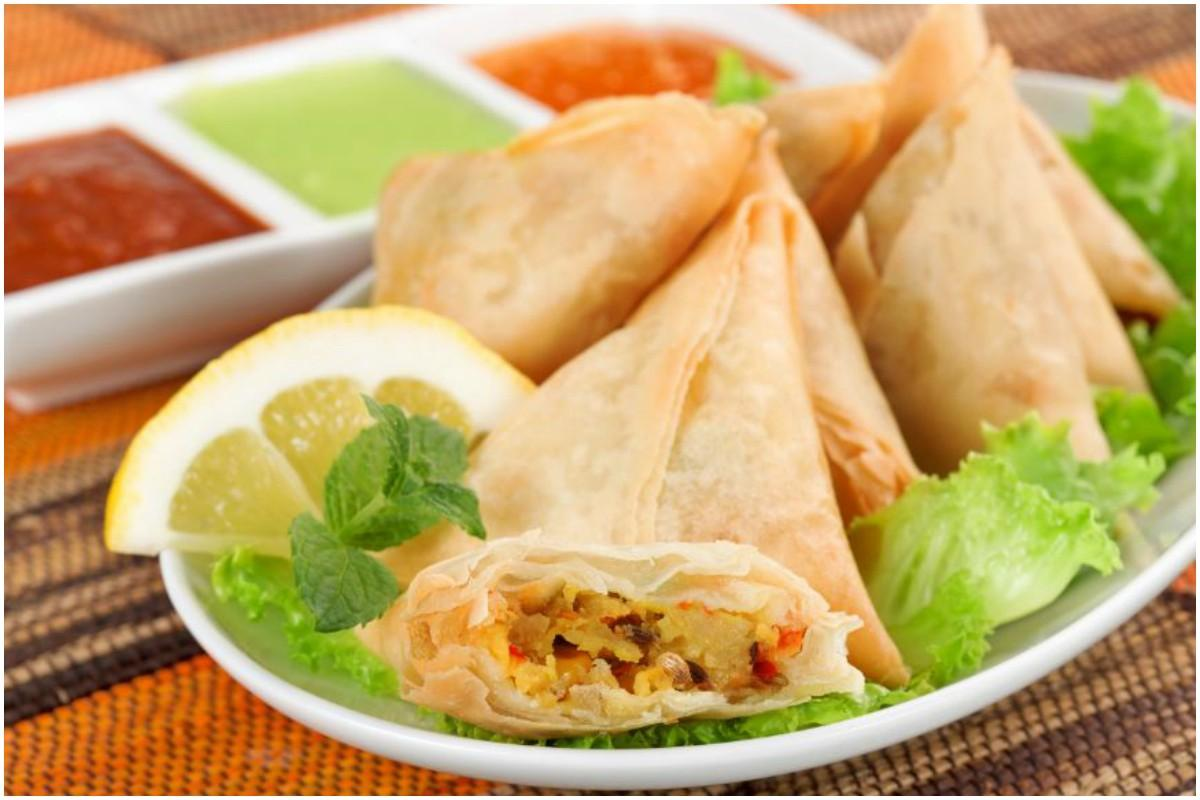chapati: (469, 145, 907, 683)
samosa: (469, 145, 907, 683), (862, 47, 1146, 472), (375, 94, 766, 381)
